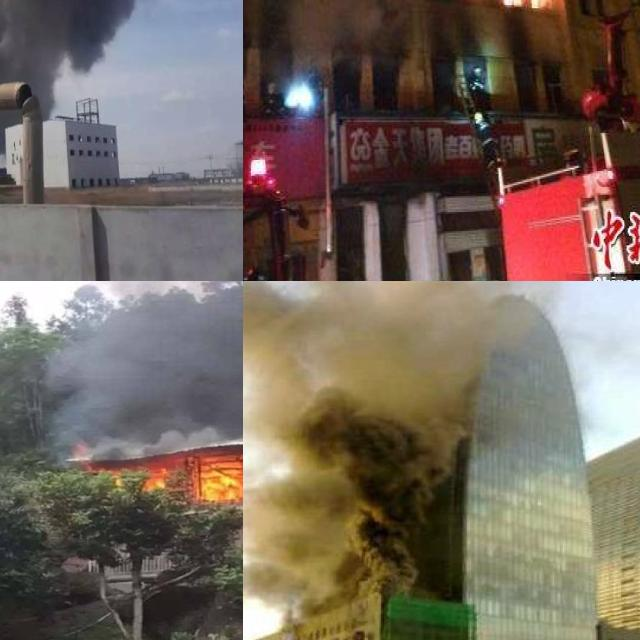fire: (102, 450, 243, 523)
smoke: (243, 281, 553, 611), (0, 0, 226, 188), (46, 281, 243, 452)
